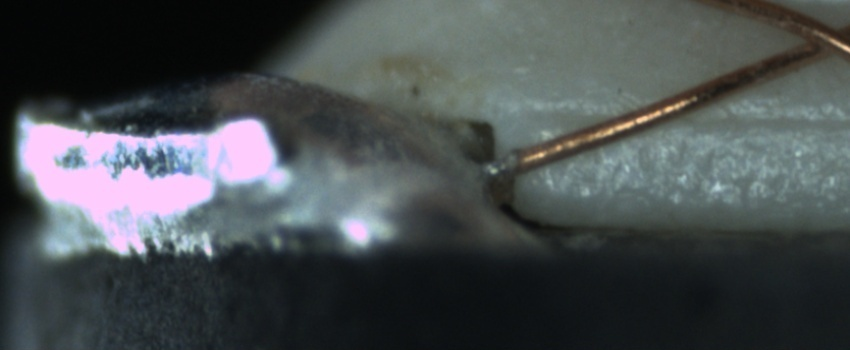CL: (776, 8, 849, 64)
DL: (533, 87, 850, 149)
TS: (482, 151, 511, 179)
